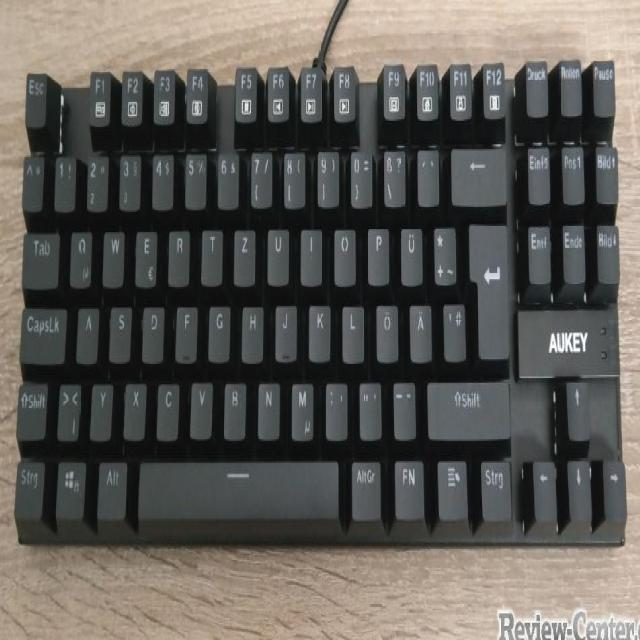0: (349, 146, 373, 207)
1: (52, 151, 76, 212)
2: (85, 152, 108, 210)
3: (117, 151, 140, 210)
4: (150, 149, 173, 209)
5: (183, 151, 206, 209)
6: (215, 149, 239, 209)
7: (249, 148, 272, 207)
8: (281, 148, 305, 209)
9: (316, 148, 340, 209)
a: (75, 303, 98, 362)
accent: (416, 144, 439, 204)
ae: (408, 300, 432, 361)
alt-left: (96, 457, 129, 519)
altgr-right: (349, 457, 381, 519)
b: (222, 378, 246, 438)
c: (155, 378, 179, 438)
caret: (22, 152, 45, 213)
comma: (324, 378, 348, 439)
d: (141, 301, 164, 361)
del: (449, 144, 505, 204)
e: (133, 226, 157, 285)
enter: (468, 220, 508, 361)
f: (174, 301, 197, 361)
g: (206, 301, 230, 359)
h: (240, 301, 263, 361)
hash: (441, 300, 465, 361)
i: (299, 224, 322, 284)
j: (273, 300, 296, 359)
k: (307, 300, 330, 359)
keyboard: (10, 44, 631, 557)
l: (340, 300, 364, 361)
less: (56, 380, 81, 441)
m: (289, 378, 313, 441)
minus: (391, 380, 416, 438)
n: (256, 378, 280, 438)
o: (332, 224, 356, 284)
oe: (374, 300, 398, 361)
p: (366, 223, 389, 284)
plus: (432, 221, 456, 284)
point: (358, 378, 381, 438)
q: (68, 226, 91, 287)
r: (166, 226, 190, 285)
s: (108, 301, 131, 361)
shift-left: (15, 378, 48, 441)
shift-lock: (18, 303, 67, 364)
shift-right: (424, 377, 510, 438)
space: (134, 456, 340, 521)
ss: (382, 146, 405, 205)
strg-left: (13, 457, 45, 519)
strg-right: (478, 456, 511, 521)
t: (199, 224, 223, 284)
tab: (20, 228, 59, 287)
u: (266, 224, 289, 284)
ue: (399, 223, 422, 284)
v: (189, 377, 213, 436)
w: (101, 226, 124, 285)
x: (122, 378, 146, 438)
y: (89, 380, 112, 439)
z: (232, 224, 255, 284)
